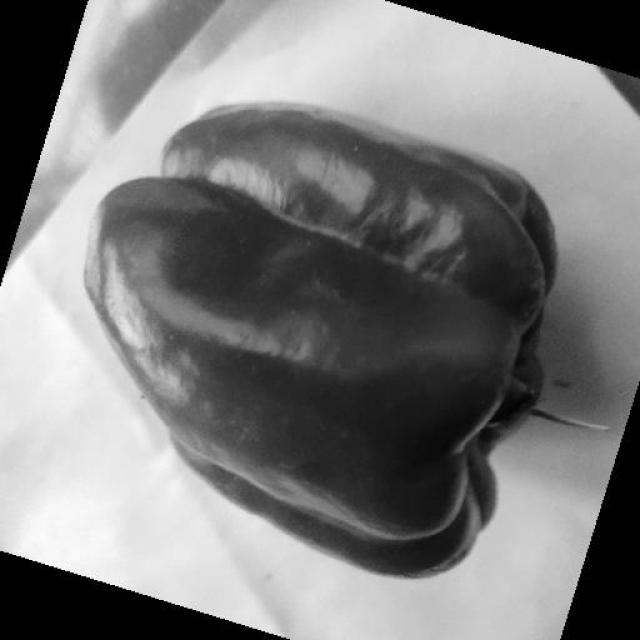Stale_Capsicum: (88, 107, 516, 535)
